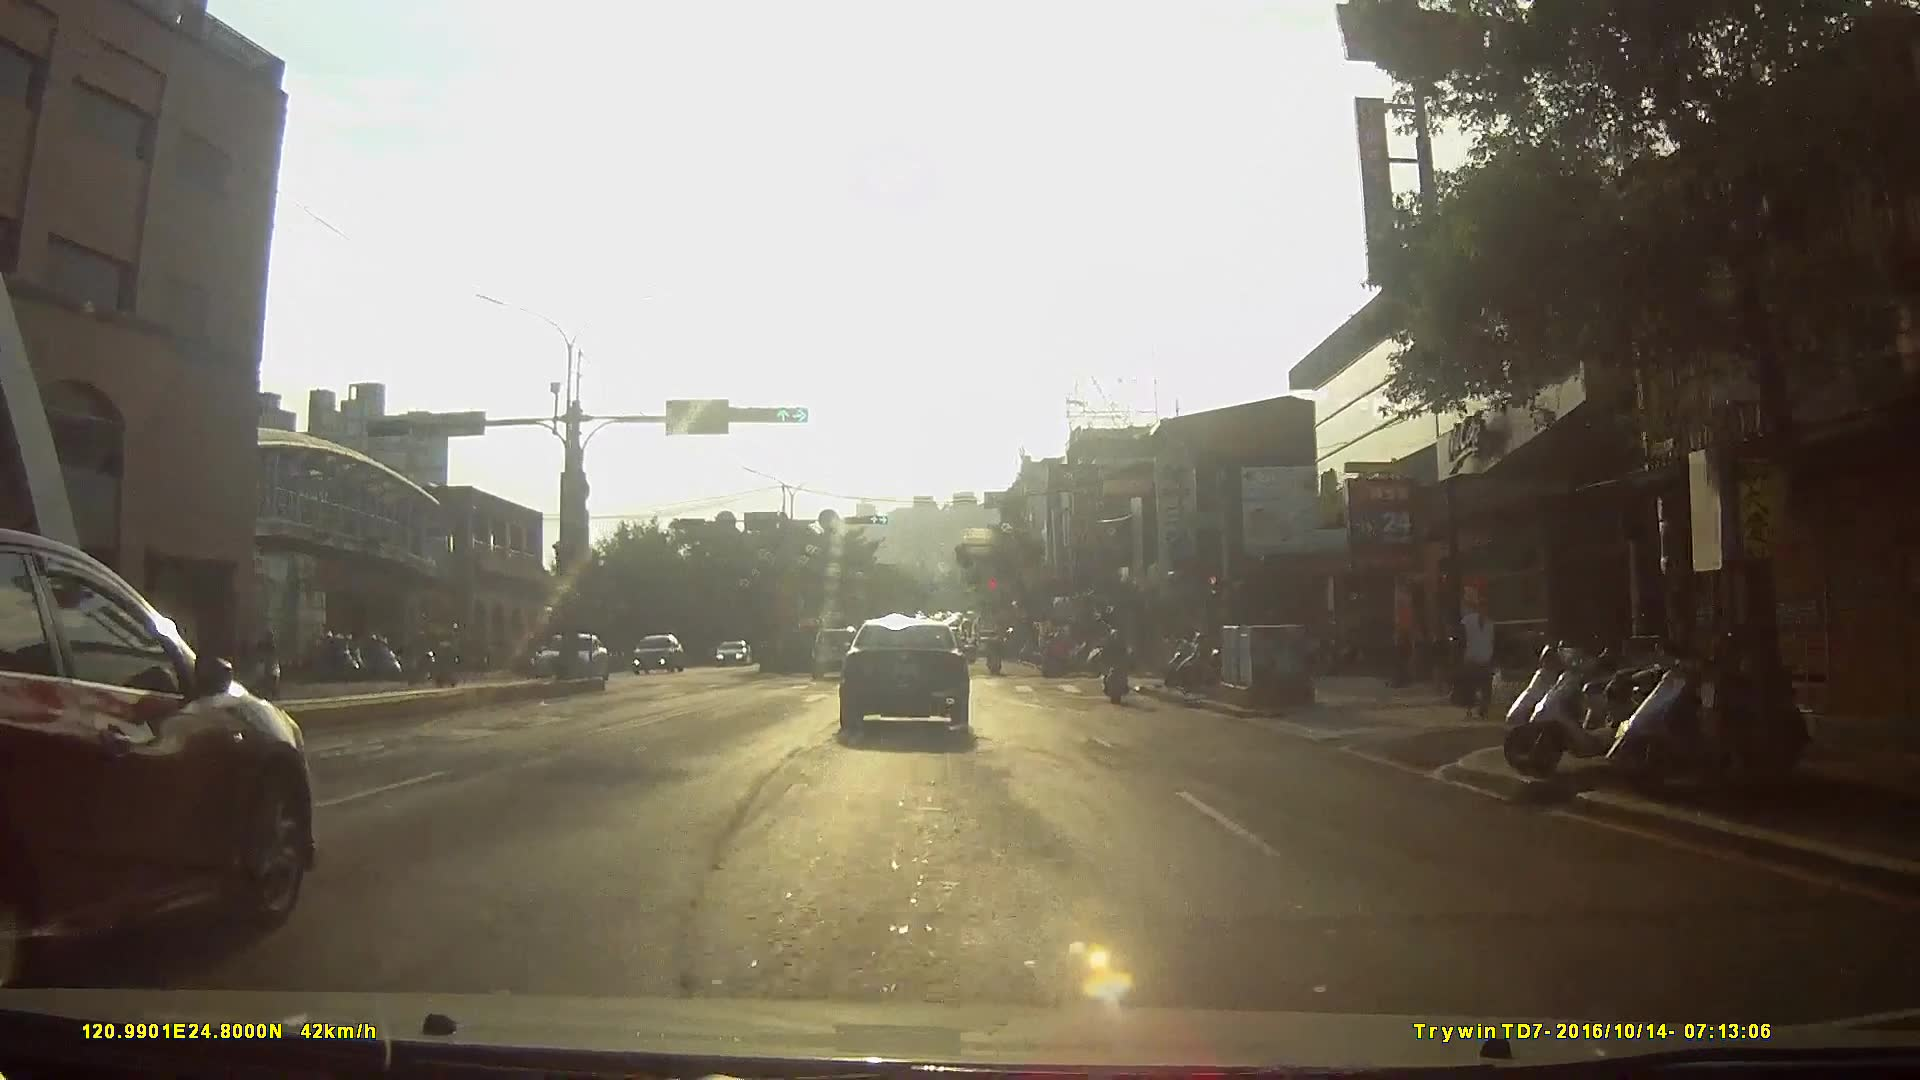pedestrian: (1449, 595, 1499, 724)
rider: (230, 627, 284, 697), (420, 622, 471, 694), (1099, 619, 1131, 699), (355, 633, 405, 684), (1038, 630, 1069, 678), (985, 634, 1005, 676)
vehicle: (1, 526, 323, 985), (836, 610, 985, 735), (530, 627, 612, 682), (809, 623, 868, 678), (632, 635, 688, 680), (710, 638, 754, 670)
